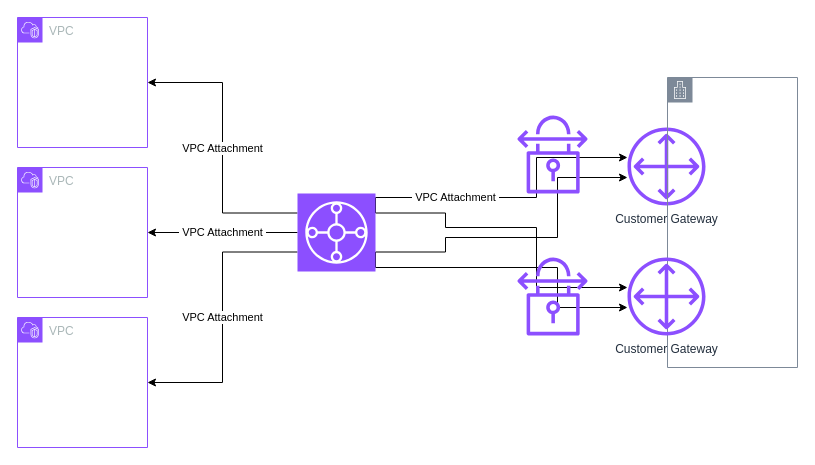
Some shapes in this 815 by 465 pixel diagram are drawn without their labels. Here are the shapes that lost their labels. From the top down, the box of each, then its label:
(296, 192, 376, 272): AWS Transit Gateway
(666, 76, 798, 368): Corporate data center
